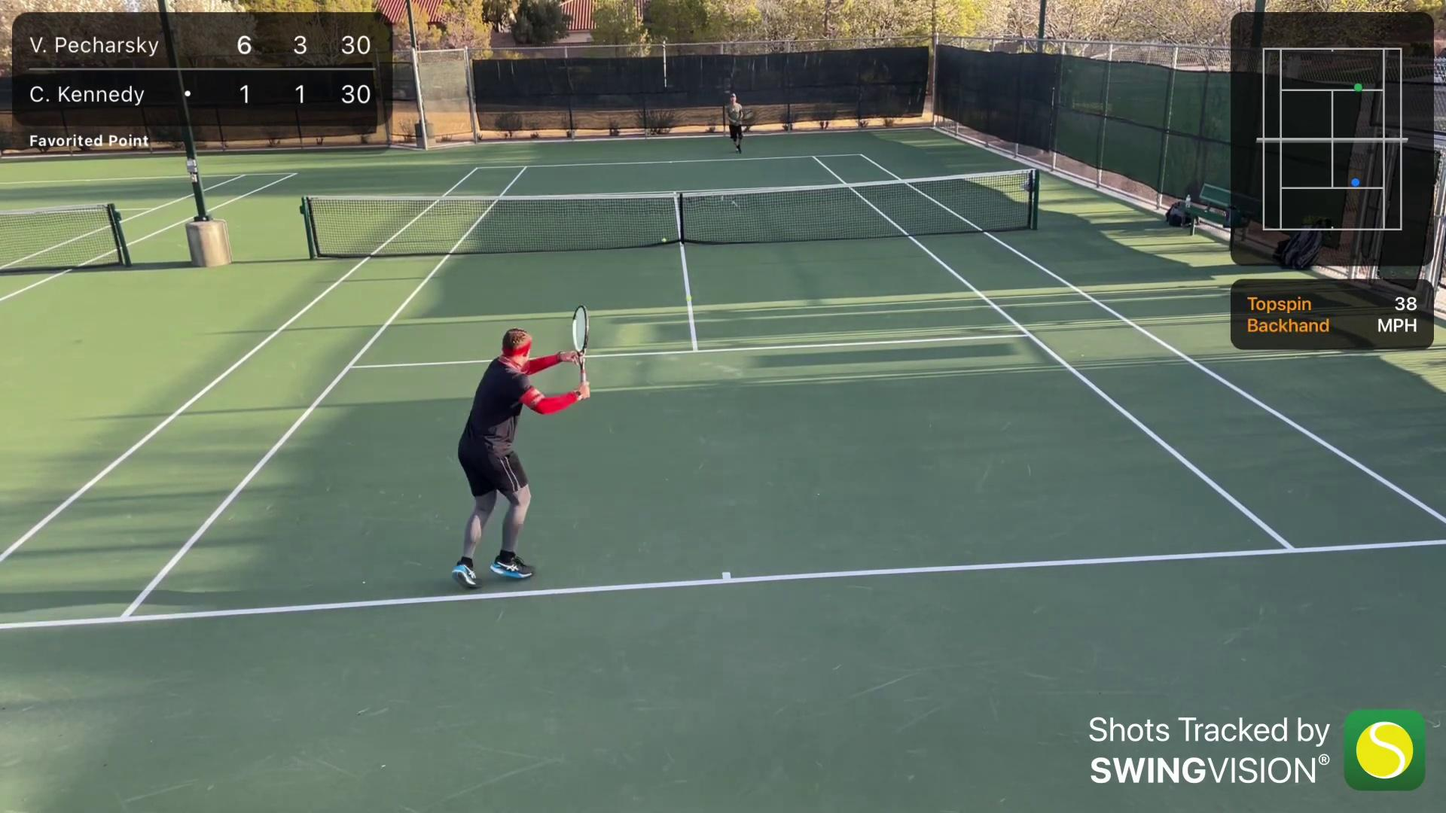ball: (685, 294, 693, 303), (660, 237, 669, 244)
